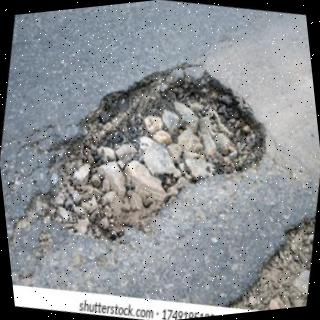pothole: (28, 68, 265, 241), (233, 218, 314, 311)
